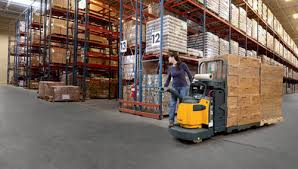Pallet Jack: (159, 58, 262, 144)
